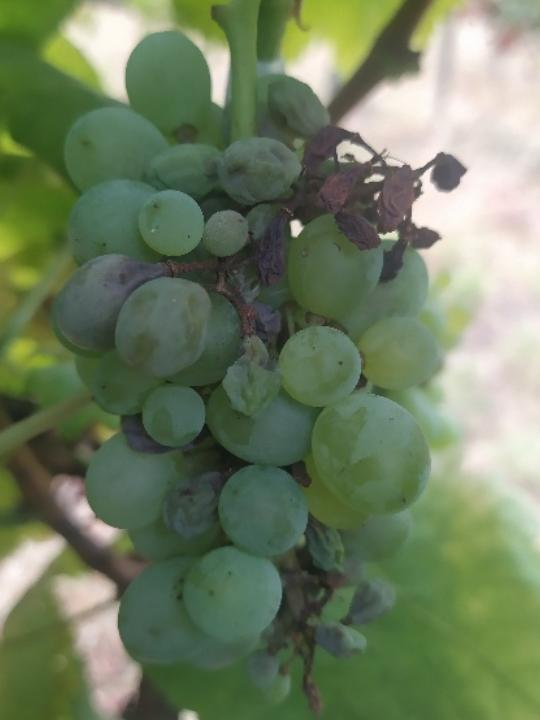grape: (45, 26, 471, 720)
